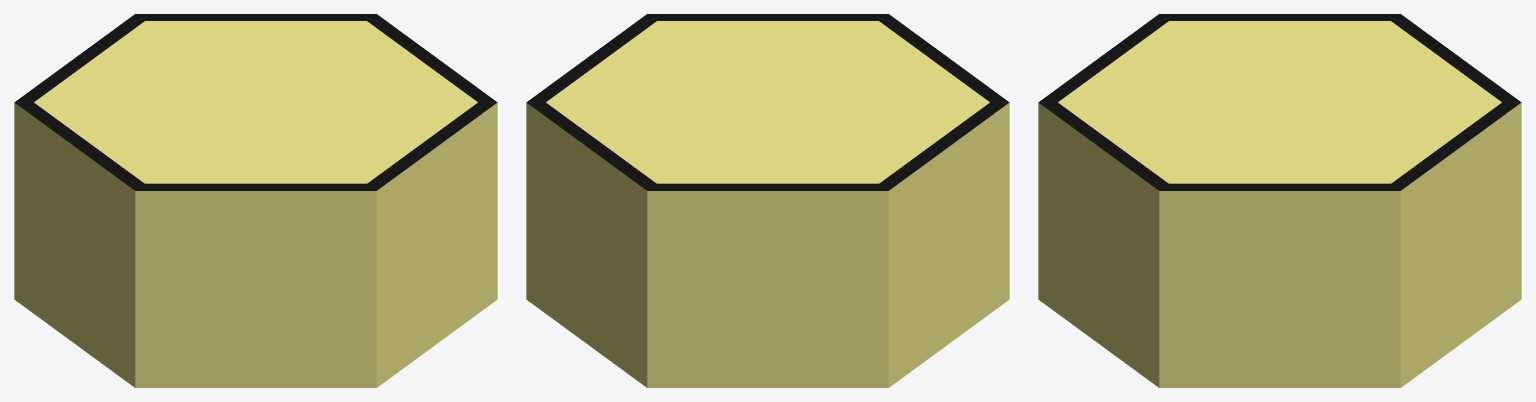
File: 1tile1.glb
The picture shows the model from 3 angles, left to right: view 1: azimuth 30°, elevation 25°; view 2: azimuth 150°, elevation 25°; view 3: azimuth 270°, elevation 25°; orthographic projection.
Visible parts, largest first — view 1: PalmHalfTile-col; view 2: PalmHalfTile-col; view 3: PalmHalfTile-col.
Part boxes in pixels (box(x1,y1,x2,y2)): PalmHalfTile-col: box(14, 14, 497, 387); PalmHalfTile-col: box(526, 14, 1009, 387); PalmHalfTile-col: box(1038, 14, 1521, 387).
Size of the model in its own units: 1.73 by 0.9 by 2.
Materials: 2 (2 with a texture image).
